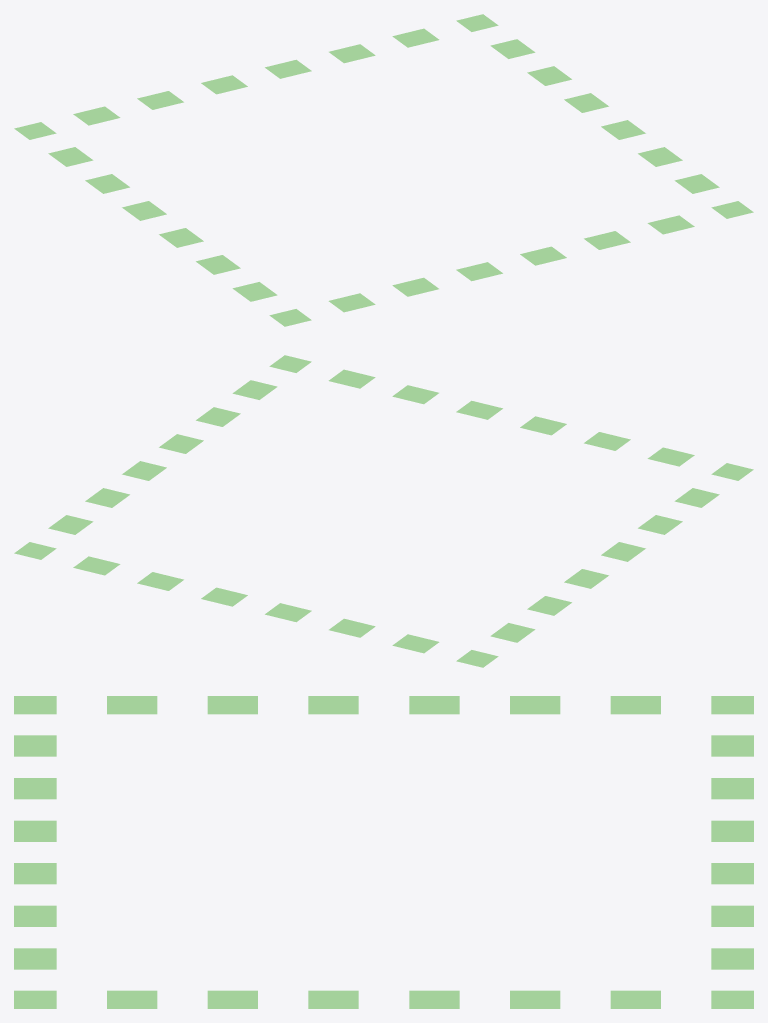
The model's file is CanMoveTo.fbx.
3 views of the same model, one above another, from view 1: azimuth 30°, elevation 25°; view 2: azimuth 150°, elevation 25°; view 3: azimuth 270°, elevation 25° (orthographic). The views are drawn at different scales.
Parts seen in each view (by area): view 1: MoveTo; view 2: MoveTo; view 3: MoveTo.
Part boxes in pixels (bbox=[...]): MoveTo: bbox=[14, 14, 753, 326]; MoveTo: bbox=[14, 355, 753, 667]; MoveTo: bbox=[14, 696, 753, 1008].
Bounding box in the file's own units: 98 × 0 × 98.
